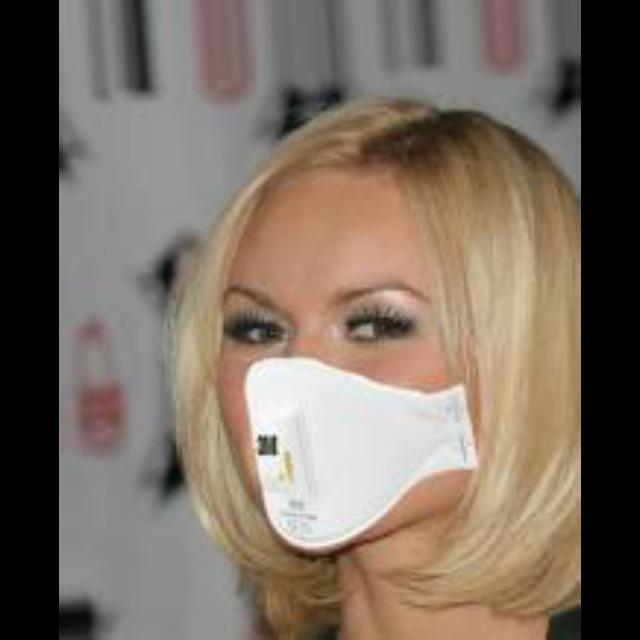suspicion: (178, 109, 566, 546)
